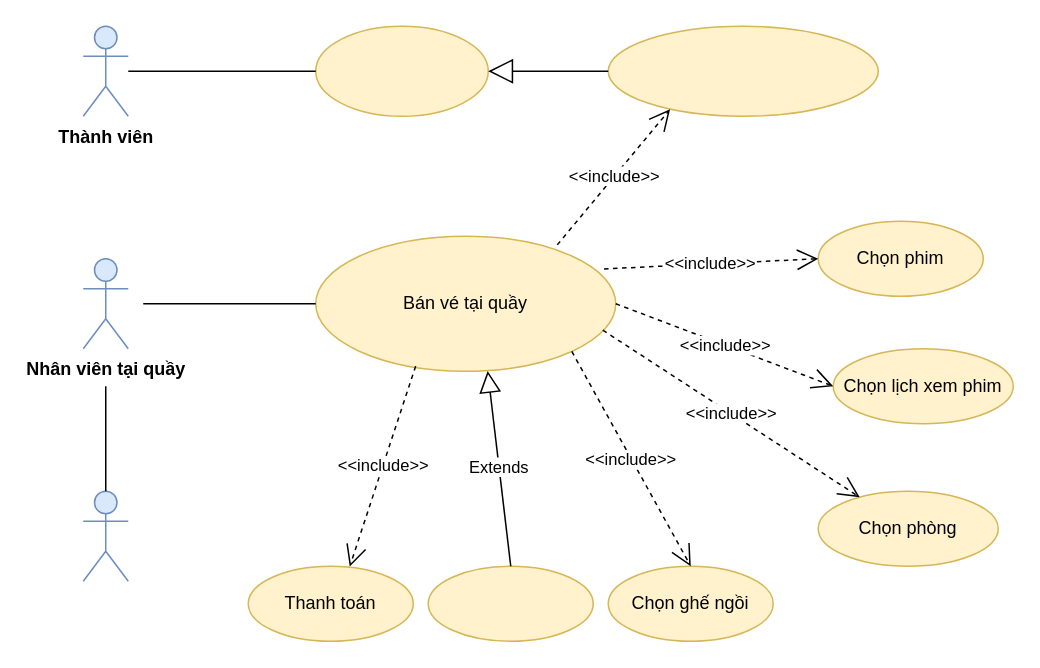
Image size: 1040x668. Some labels were removed from this diagram. Each missing label, with the centre of its shape:
Chọn đồ ăn: point (510, 603)
Khách hàng: point (105, 535)
Nhân viển tại quầy đăng nhập: point (742, 70)
Đăng nhập: point (401, 70)
